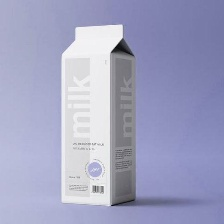carton: (55, 21, 152, 210)
